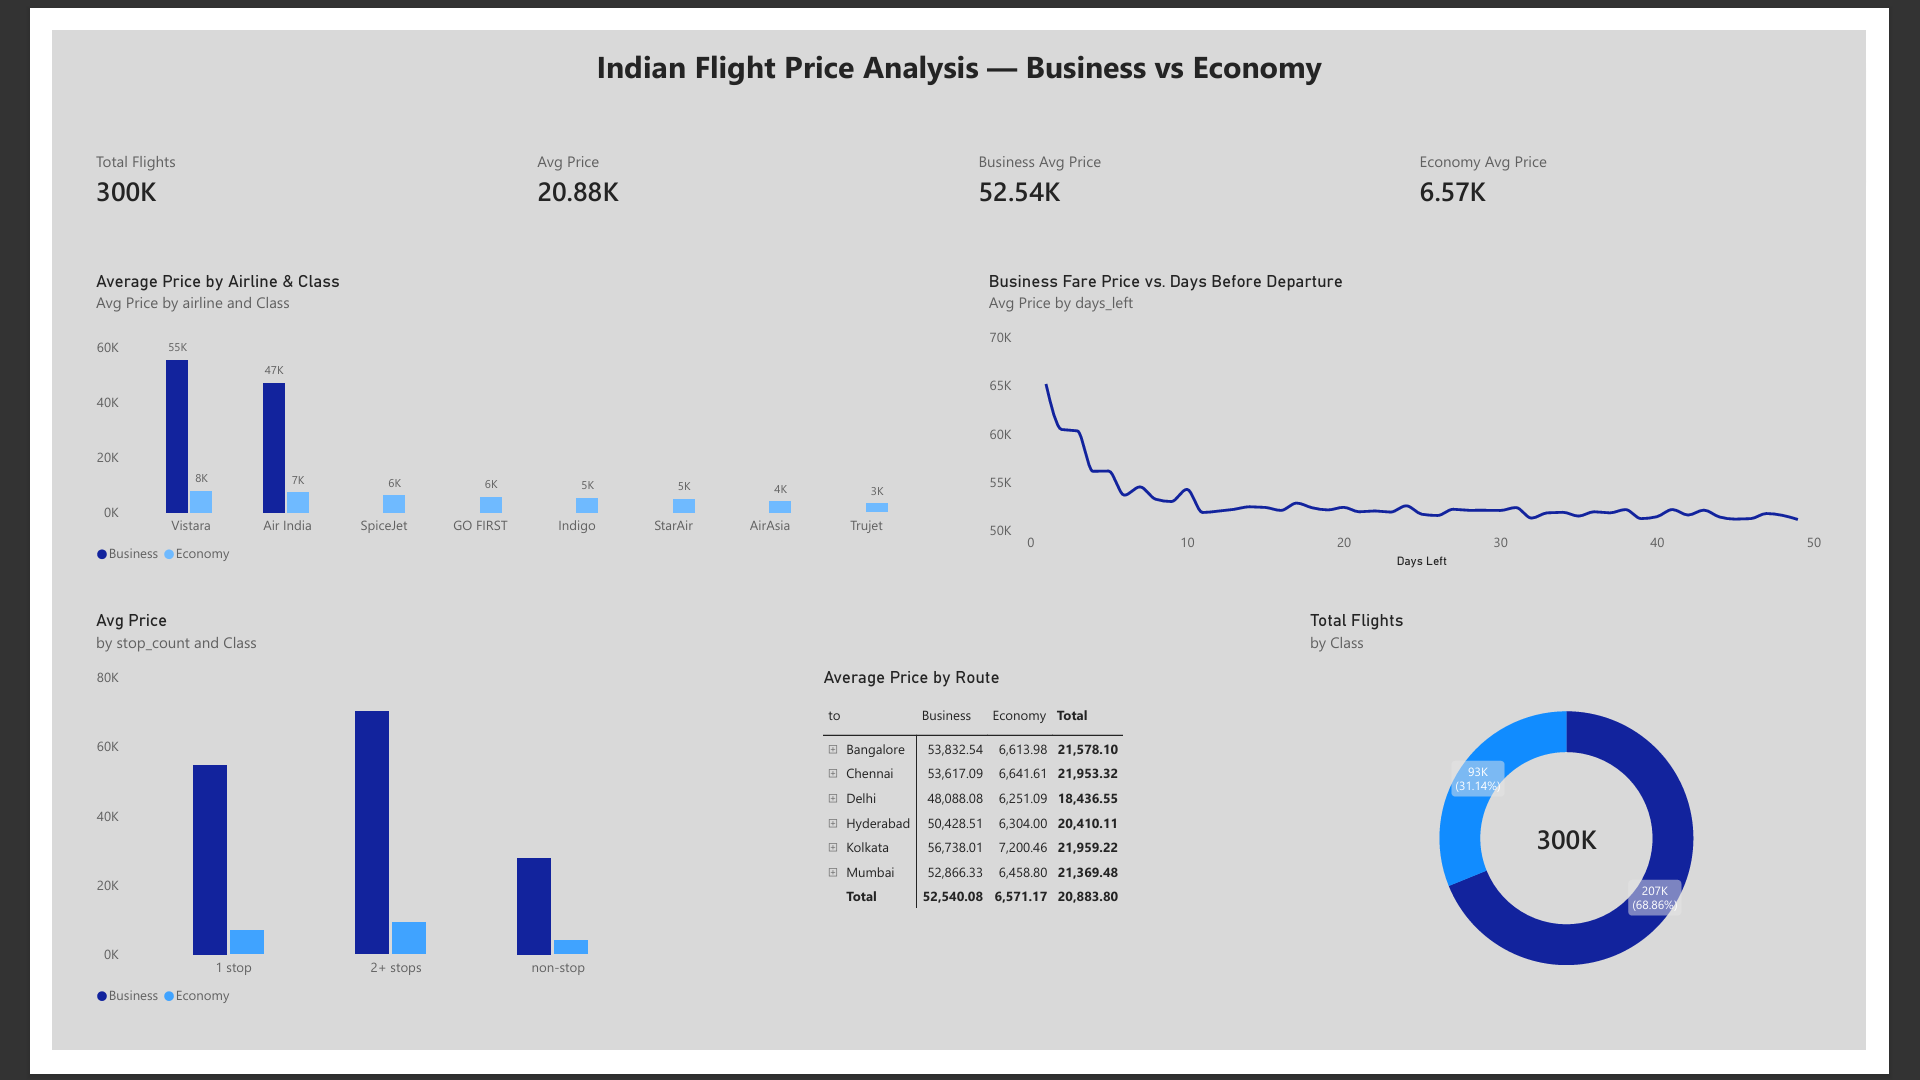

What the dashboard file says about the page in this screenshot:
{"tool":"powerbi","page":{"name":"Page 1","canvas":[1920,1080],"ordinal":0},"visuals":[{"type":"cardVisual","fields":{"Data":["FlightData.Total Flights","FlightData.Avg Price","FlightData.Business Avg Price","FlightData.Economy Avg Price"]},"box":[30,90,1860,135],"z":0},{"type":"clusteredColumnChart","title":"Average Price by Airline & Class","fields":{"Category":["FlightData.airline"],"Series":["FlightData.Class"],"Y":["FlightData.Avg Price"]},"box":[30,240,914,345],"z":1000},{"type":"lineChart","title":"Business Fare Price vs. Days Before Departure","fields":{"Category":["FlightData.days_left"],"Y":["FlightData.Avg Price"]},"box":[975,240,915,345],"z":2000},{"type":"clusteredColumnChart","fields":{"Category":["FlightData.stop_count"],"Series":["FlightData.Class"],"Y":["FlightData.Avg Price"]},"box":[30,600,632.5,452.5],"z":3000},{"type":"pivotTable","title":"Average Price by Route","fields":{"Columns":["FlightData.Class"],"Rows":["FlightData.to","FlightData.from"],"Values":["FlightData.Avg Price"]},"box":[800,660,435,392.5],"z":4000},{"type":"textbox","box":[30,15,1860,60],"z":6000},{"type":"donutChart","fields":{"Category":["FlightData.Class"],"Y":["FlightData.Total Flights"]},"box":[1315,600,575,452.5],"z":6001}]}

Visuals, with their boxes in screenshot pixels (x1, y1, x2, y2), scaled from the page's 1920x1080 canvas onto the 1920x1080 screenshot:
cardVisual - FlightData.Total Flights x FlightData.Avg Price: [30, 90, 1890, 225]
"Average Price by Airline & Class" clusteredColumnChart: [30, 240, 944, 585]
"Business Fare Price vs. Days Before Departure" lineChart: [975, 240, 1890, 585]
clusteredColumnChart - FlightData.stop_count x FlightData.Class: [30, 600, 662, 1052]
"Average Price by Route" pivotTable: [800, 660, 1235, 1052]
textbox: [30, 15, 1890, 75]
donutChart - FlightData.Class x FlightData.Total Flights: [1315, 600, 1890, 1052]
